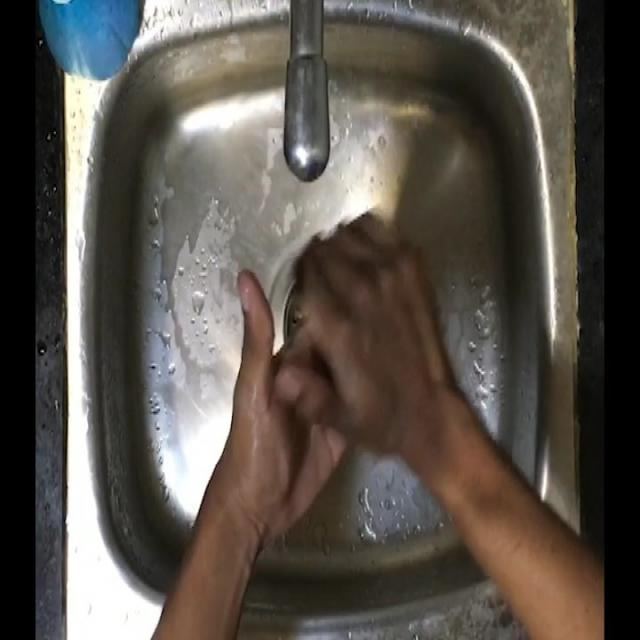step_5: (220, 202, 438, 543)
